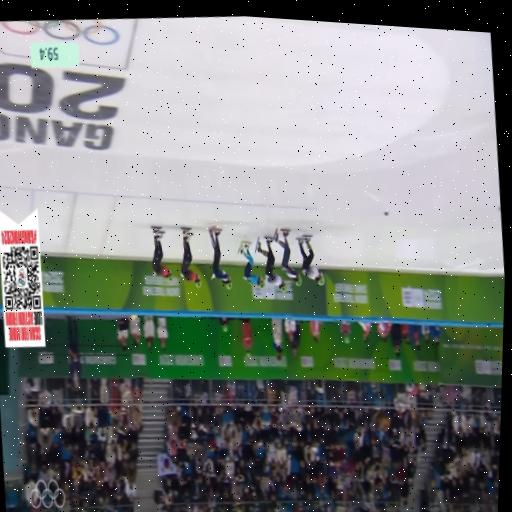Skater: (255, 236, 285, 290), (273, 228, 301, 285), (208, 226, 231, 288), (296, 235, 324, 285), (237, 241, 263, 288), (180, 228, 201, 286), (151, 226, 171, 279)
